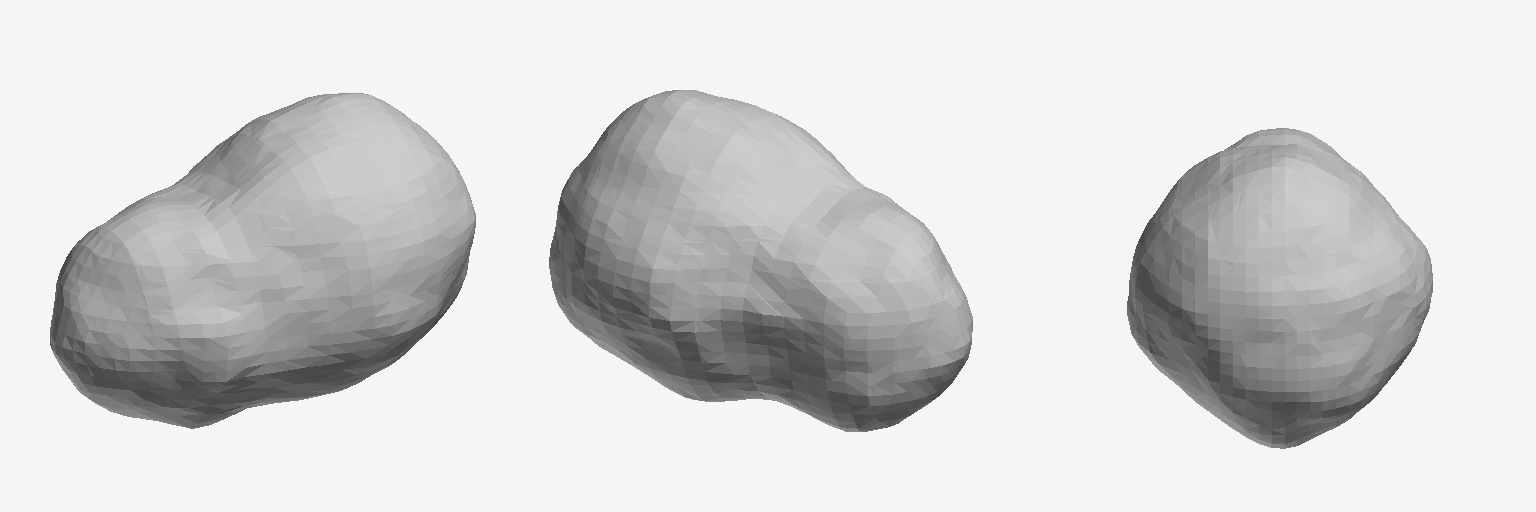
File: rock_newm.obj
The picture shows the model from 3 angles: view 1: azimuth 30°, elevation 25°; view 2: azimuth 150°, elevation 25°; view 3: azimuth 270°, elevation 25°; orthographic projection.
Visible parts, largest first — view 1: rock1; view 2: rock1; view 3: rock1.
Part boxes in pixels (x1,y1,x2,y2): rock1: (50, 93, 475, 428); rock1: (549, 90, 972, 431); rock1: (1127, 128, 1432, 448).
Size of the model in its own units: 3.7 by 2.45 by 2.47.